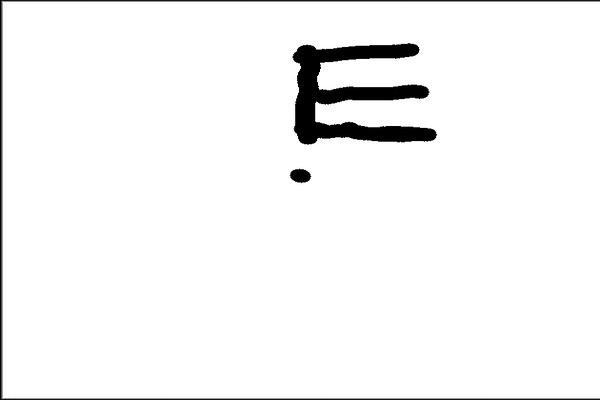E: (285, 38, 441, 154)
